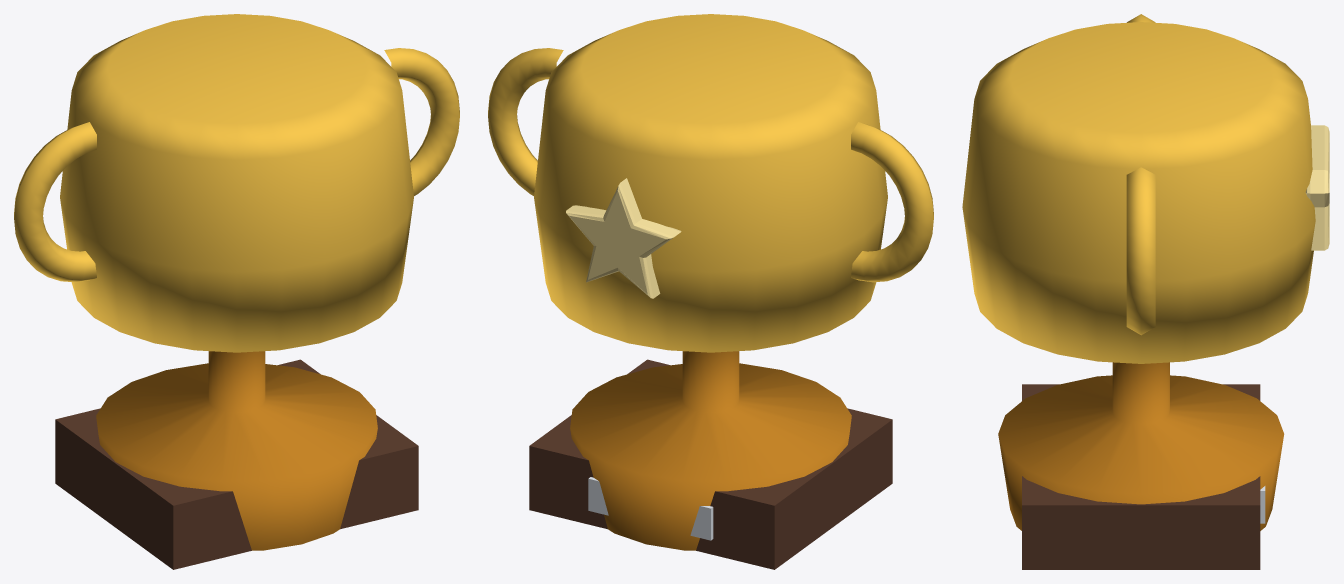
Rendered from Trophy3D.glb.
3 renders of one model, left to right at view 1: azimuth 30°, elevation 25°; view 2: azimuth 150°, elevation 25°; view 3: azimuth 270°, elevation 25°, orthographic.
Parts seen in each view (by area): view 1: Body; view 2: Body; view 3: Body.
Part boxes in pixels (box(x1,y1,x2,y2)): Body: box(14, 14, 459, 569); Body: box(488, 14, 933, 569); Body: box(962, 14, 1329, 569).
Size of the model in its own units: 2.18 by 2 by 1.54.
Materials: 1 (1 with a texture image).
